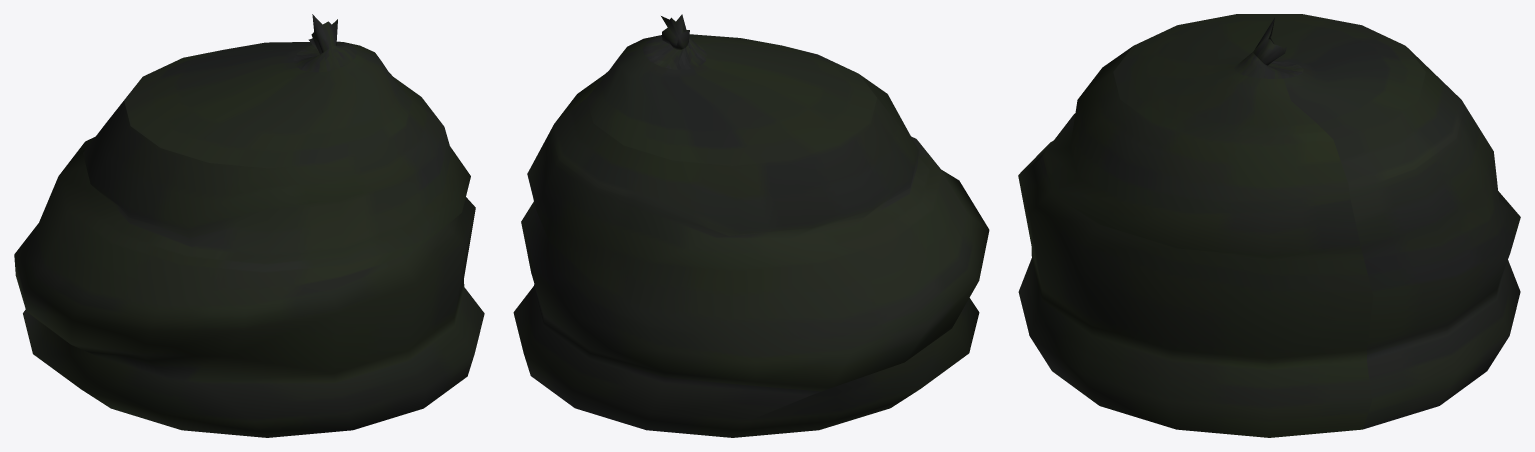
File: TrashBag.fbx
3 renders of one model, left to right at view 1: azimuth 30°, elevation 25°; view 2: azimuth 150°, elevation 25°; view 3: azimuth 270°, elevation 25°, orthographic. The views are drawn at different scales.
Parts seen in each view (by area): view 1: pCylinder1; view 2: pCylinder1; view 3: pCylinder1.
Boxes of the visible parts, x1,y1,x2,y2 form: pCylinder1: (14,14,484,437); pCylinder1: (513,14,989,437); pCylinder1: (1018,14,1520,437).
Bounding box in the file's own units: 2.86 × 2.15 × 2.81.
